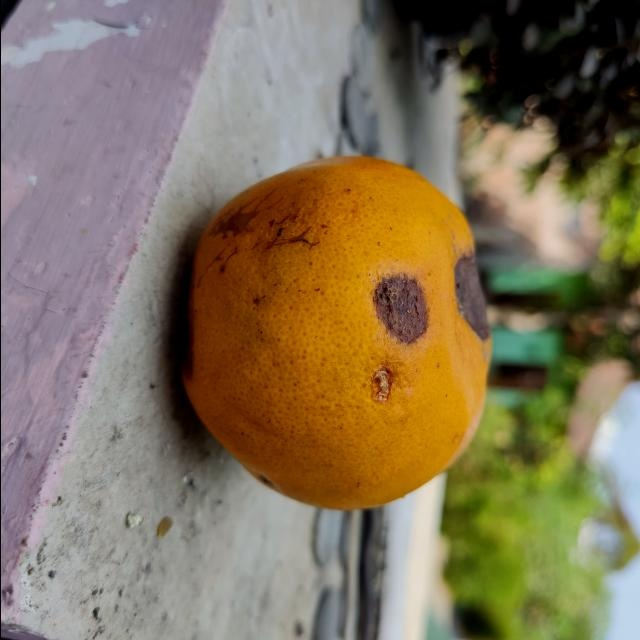agrume: (179, 154, 493, 510)
